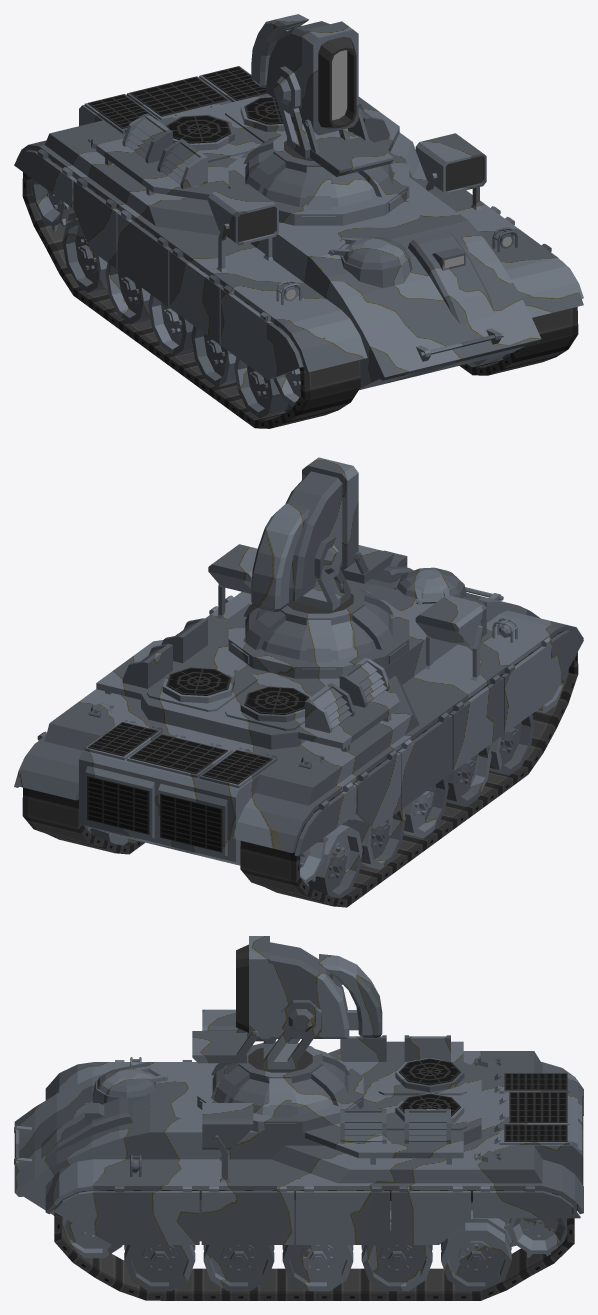
The model's file is prism.glb.
3 renders of one model, top to bottom at view 1: azimuth 30°, elevation 25°; view 2: azimuth 150°, elevation 25°; view 3: azimuth 270°, elevation 25°, orthographic. The views are drawn at different scales.
Visible parts, largest first — view 1: Object_5, Object_7, Object_6, Object_2, Object_3, Object_4; view 2: Object_5, Object_2, Object_7, Object_6; view 3: Object_5, Object_7, Object_6, Object_2, Object_3.
Part boxes in pixels (left/top/right/bottom): Object_5: left=14, top=14, right=583, bottom=389; Object_7: left=22, top=157, right=578, bottom=428; Object_6: left=105, top=263, right=510, bottom=418; Object_2: left=88, top=66, right=293, bottom=143; Object_3: left=238, top=36, right=482, bottom=241; Object_4: left=286, top=50, right=511, bottom=299; Object_5: left=14, top=457, right=583, bottom=898; Object_2: left=87, top=667, right=309, bottom=852; Object_7: left=22, top=631, right=578, bottom=907; Object_6: left=342, top=669, right=568, bottom=869; Object_5: left=14, top=936, right=583, bottom=1291; Object_7: left=54, top=1190, right=574, bottom=1300; Object_6: left=61, top=1210, right=432, bottom=1291; Object_2: left=399, top=1058, right=583, bottom=1184; Object_3: left=236, top=944, right=312, bottom=1072.
Bounding box in the file's own units: 3.08 × 3.3 × 5.76.
5 materials, 3 textured.
